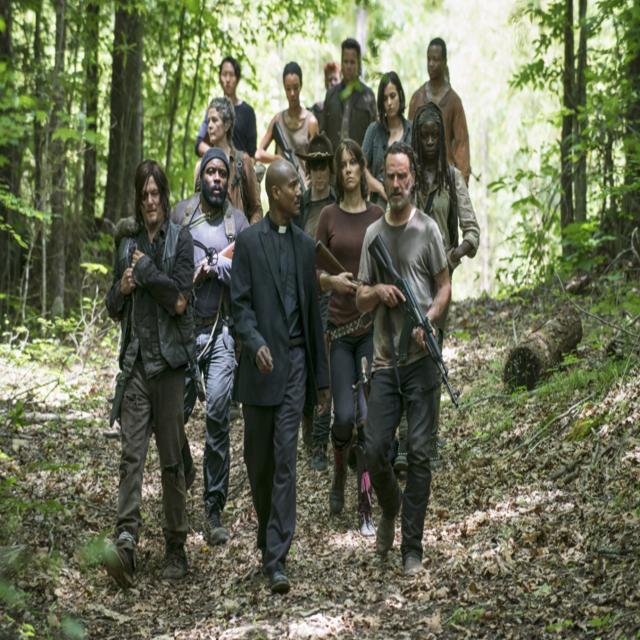body: (227, 156, 333, 597), (100, 156, 200, 594), (354, 139, 453, 580), (169, 146, 252, 547), (394, 99, 481, 471), (314, 138, 386, 541), (407, 36, 471, 191), (194, 95, 264, 236), (321, 36, 378, 199), (252, 59, 320, 192), (359, 71, 416, 213), (194, 56, 258, 166), (295, 132, 337, 238), (309, 60, 342, 133)
